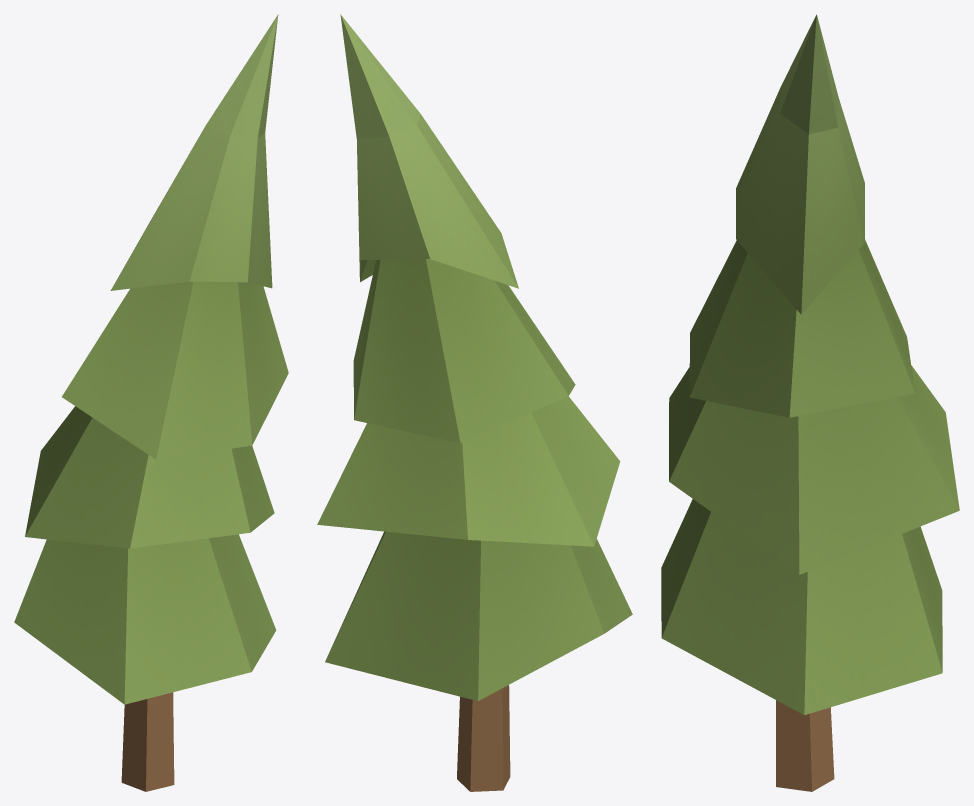
The model's file is Pine_Tree_m_11.fbx.
The picture shows the model from 3 angles, left to right: view 1: azimuth 30°, elevation 25°; view 2: azimuth 150°, elevation 25°; view 3: azimuth 270°, elevation 25°; orthographic projection. The views are drawn at different scales.
Visible parts, largest first — view 1: Pine_Tree_m_11; view 2: Pine_Tree_m_11; view 3: Pine_Tree_m_11.
Part boxes in pixels (x1,y1,x2,y2): Pine_Tree_m_11: (14,14,288,791); Pine_Tree_m_11: (317,14,632,791); Pine_Tree_m_11: (661,14,959,791).
Bounding box in the file's own units: 217 × 575 × 185.
